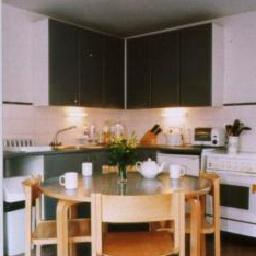Electrodomestico: (207, 155, 254, 237)
